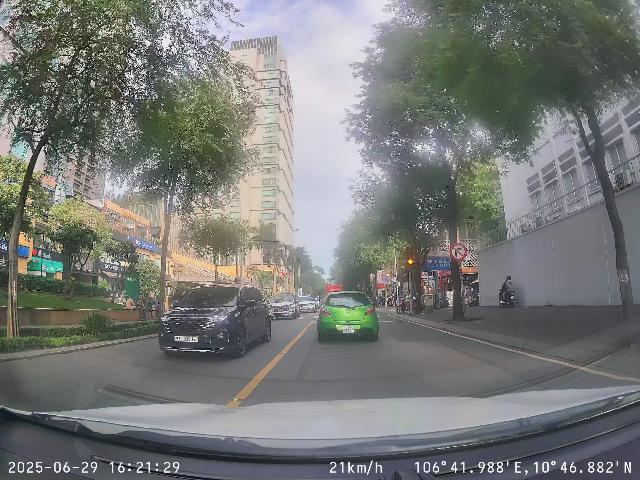123b-cam-re-phai: (449, 243, 467, 262)
